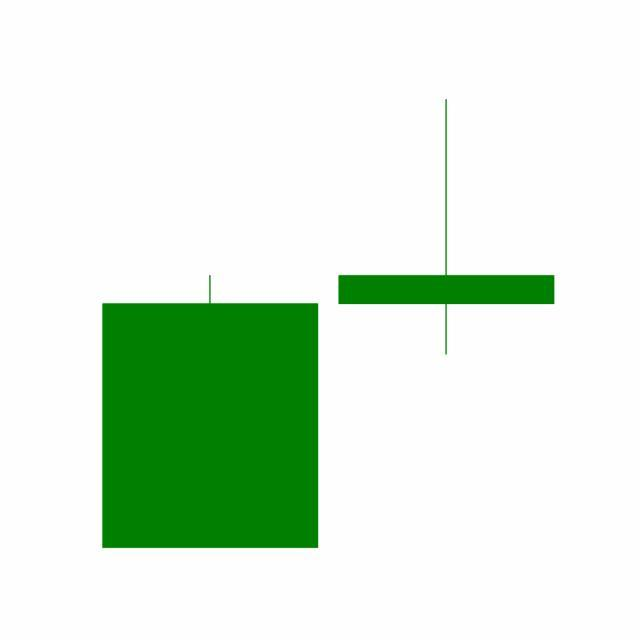Spinning Top: (328, 96, 566, 358)
